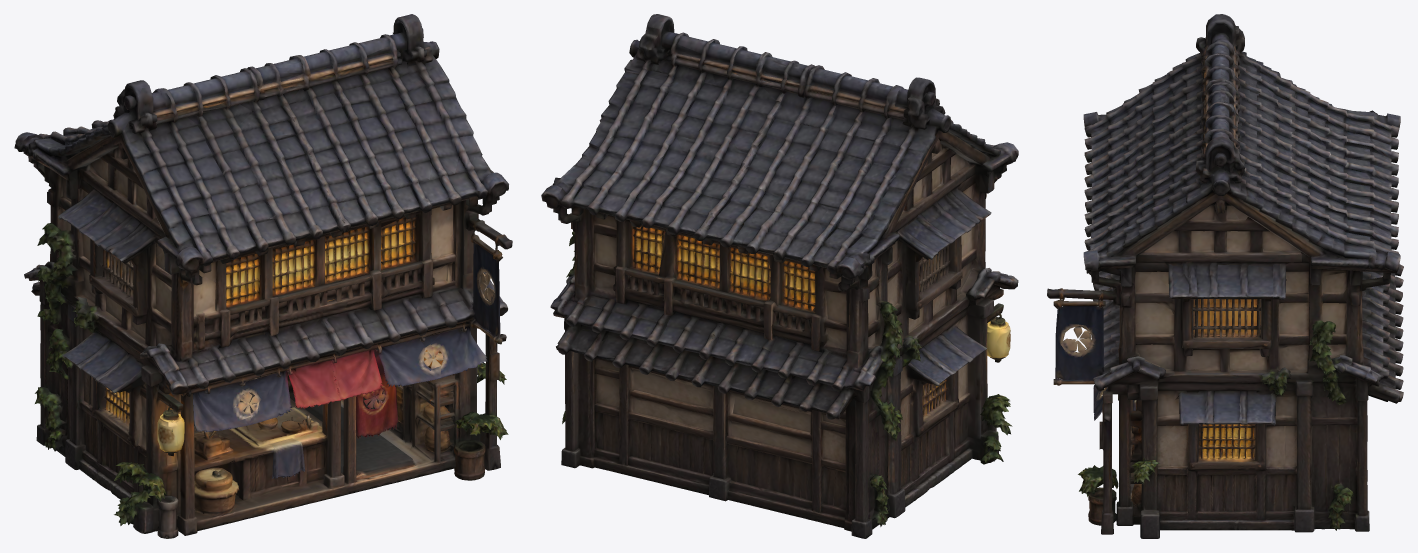
Rendered from House.fbx.
The picture shows the model from 3 angles, left to right: view 1: azimuth 30°, elevation 25°; view 2: azimuth 150°, elevation 25°; view 3: azimuth 270°, elevation 25°; orthographic projection. The views are drawn at different scales.
Parts seen in each view (by area): view 1: traditional storefront 3d model; view 2: traditional storefront 3d model; view 3: traditional storefront 3d model.
Boxes of the visible parts, x1,y1,x2,y2 form: traditional storefront 3d model: (14, 14, 512, 538); traditional storefront 3d model: (541, 14, 1018, 538); traditional storefront 3d model: (1047, 14, 1403, 538).
Size of the model in its own units: 94.9 by 97.98 by 82.77.
1 material, 1 textured.
